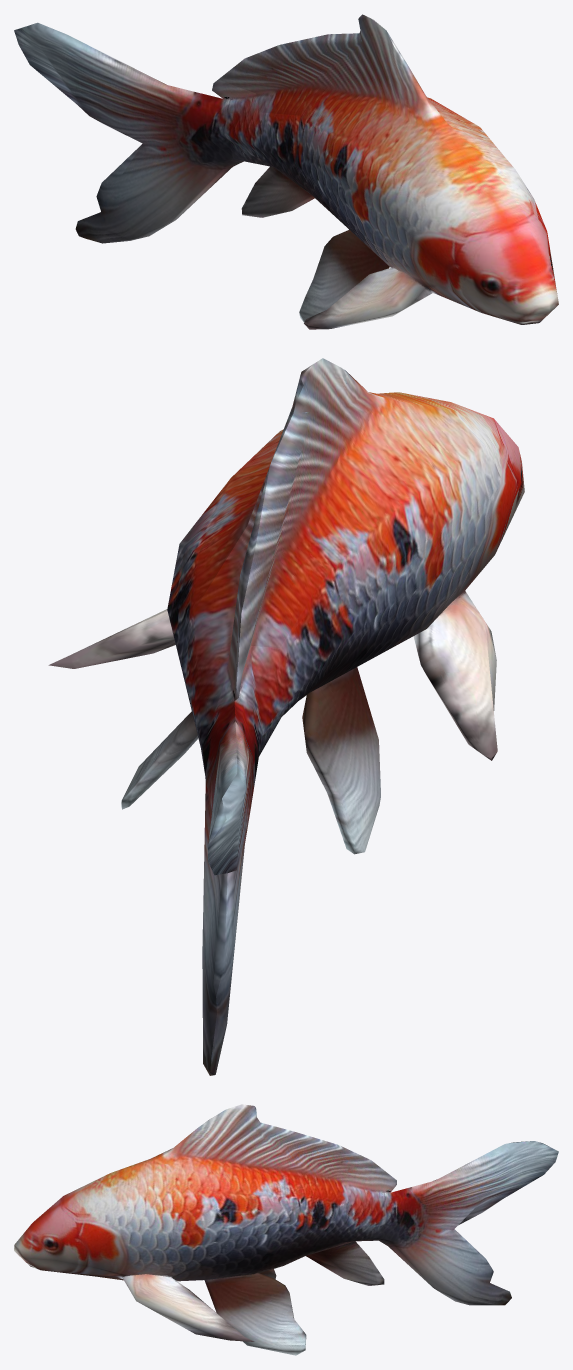
Rendered from koifish3.fbx.
3 views of the same model, one above another, from view 1: azimuth 30°, elevation 25°; view 2: azimuth 150°, elevation 25°; view 3: azimuth 270°, elevation 25° (orthographic). The views are drawn at different scales.
Parts seen in each view (by area): view 1: koifish; view 2: koifish; view 3: koifish.
Boxes of the visible parts, <box> form: koifish: <box>14,14,558,329</box>; koifish: <box>48,358,524,1075</box>; koifish: <box>14,1104,558,1355</box>.
Bounding box in the file's own units: 300 × 295 × 607.
